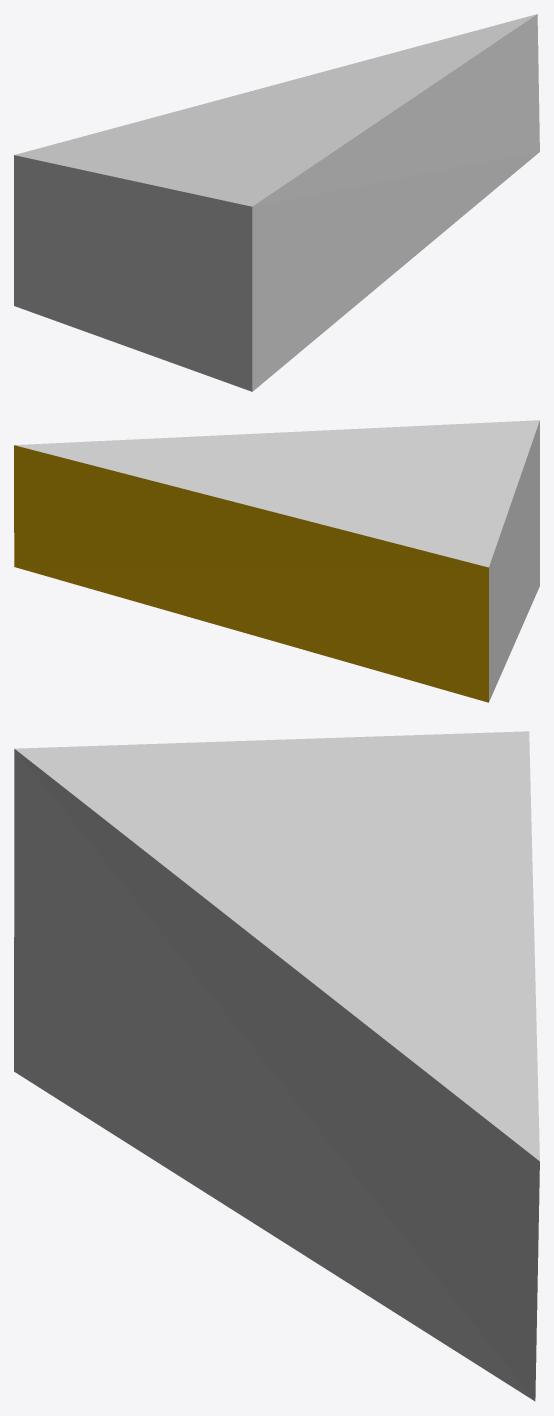
The model's file is finger_convex.dae.
3 views of the same model, one above another, from view 1: azimuth 30°, elevation 25°; view 2: azimuth 150°, elevation 25°; view 3: azimuth 270°, elevation 25° (orthographic). The views are drawn at different scales.
Parts seen in each view (by area): view 1: gripper_finger_left_visual_001; view 2: gripper_finger_left_visual_001; view 3: gripper_finger_left_visual_001.
Part boxes in pixels (bbox=[...]): gripper_finger_left_visual_001: bbox=[14, 14, 539, 391]; gripper_finger_left_visual_001: bbox=[14, 420, 539, 702]; gripper_finger_left_visual_001: bbox=[14, 731, 539, 1401].
Size of the model in its own units: 0.0805 by 0.0399 by 0.027.
